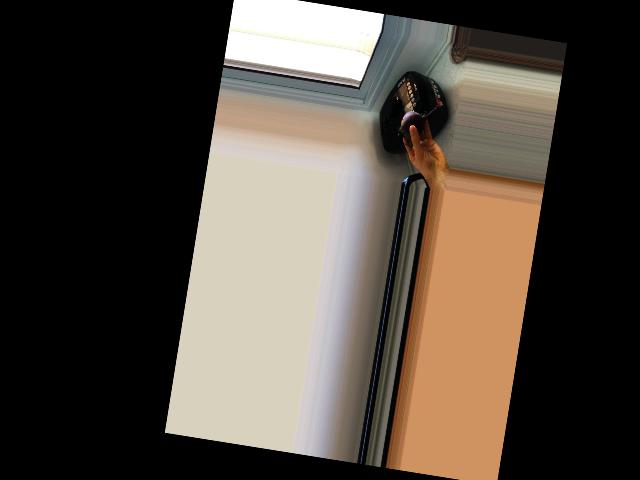beet: (395, 99, 438, 148)
